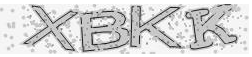B: (76, 9, 131, 52)
K: (184, 3, 241, 51), (129, 4, 183, 50)
X: (23, 4, 79, 53)
